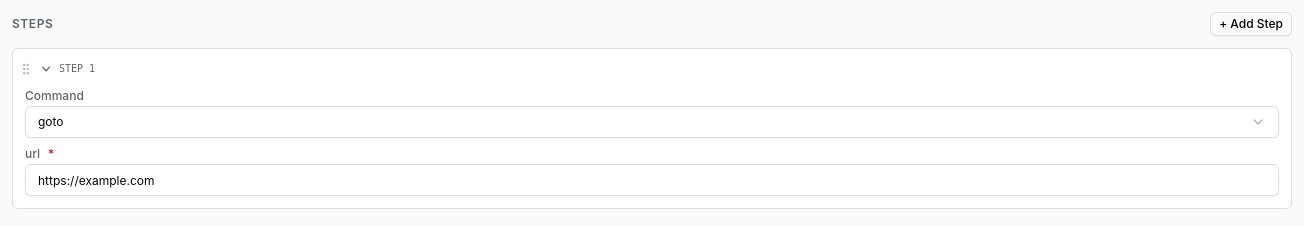
it: StepBuilder › command selection › groups the options by category
Click the dropdown at (51, 122), box [25,106,1279,138]
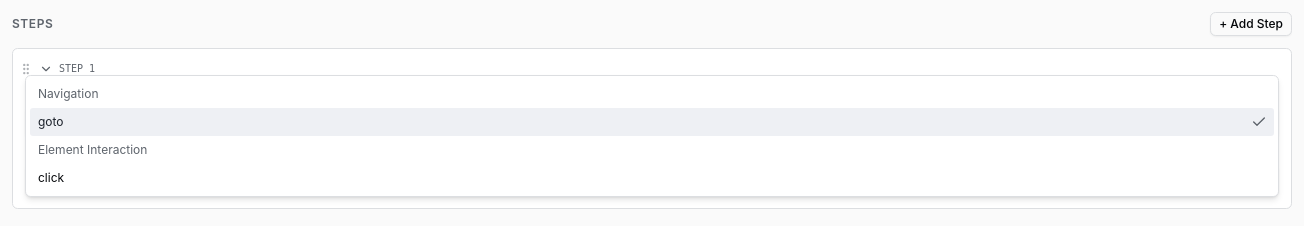
Result: the text "Navigation" is shown at [38,86,98,101]
